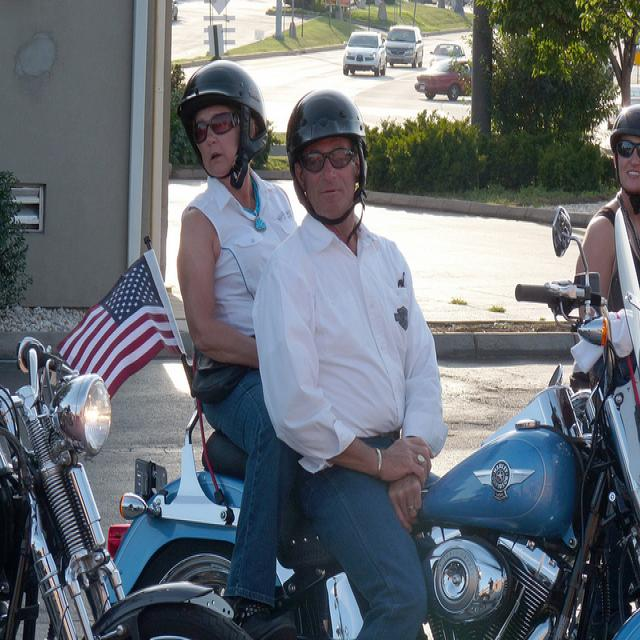motor: (119, 207, 640, 631), (2, 329, 257, 633)
